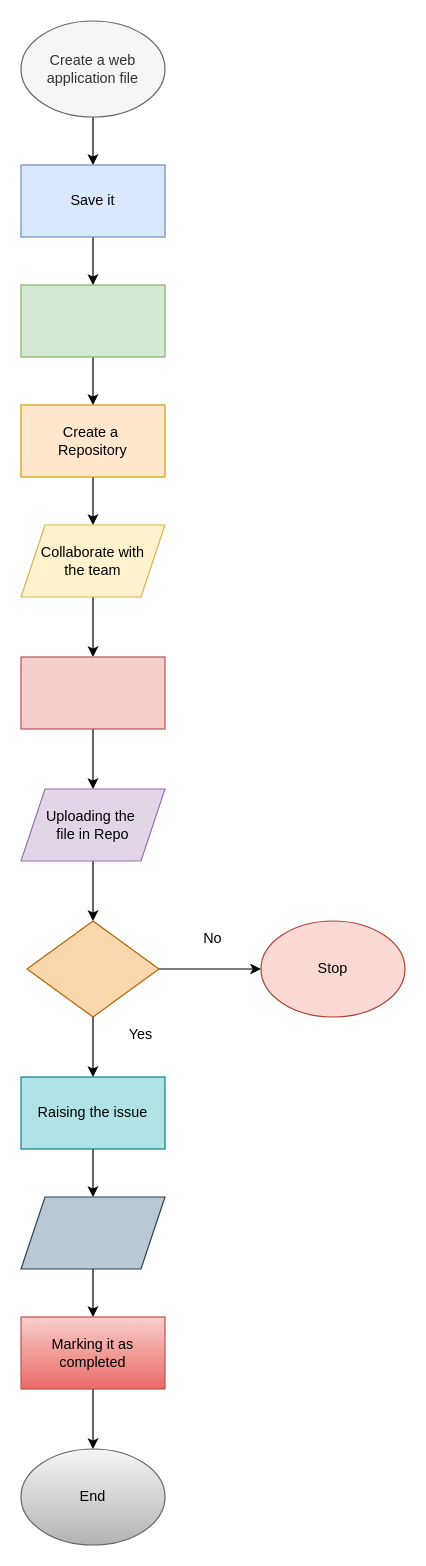
The diagram is 426 pixels wide and 1566 high, and some of its shapes have lost their labels. Here are the shapes that lost their labels. From the top down, the box of each, then its label:
(20, 284, 165, 357): Sign in to the Git hub
(20, 656, 165, 729): Adding the team member
(26, 920, 159, 1017): Checking for issues
(20, 1196, 165, 1269): Solving the issue
